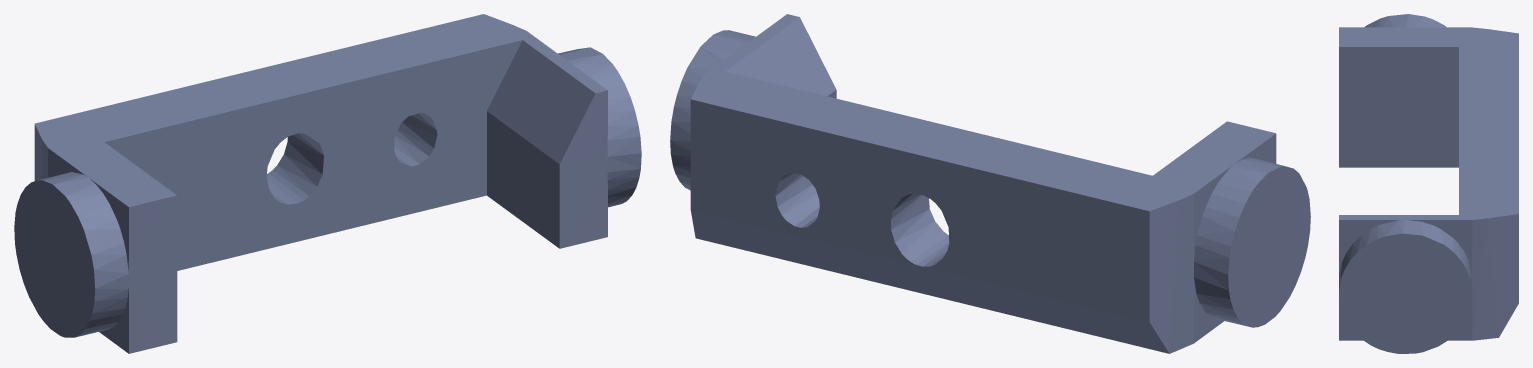
Rendered from i02_head_right_eye_horizontal_visual.obj.light.glb.
3 renders of one model, left to right at view 1: azimuth 30°, elevation 25°; view 2: azimuth 150°, elevation 25°; view 3: azimuth 270°, elevation 25°, orthographic. The views are drawn at different scales.
Size of the model in its own units: 0.1838 by 0.0472 by 0.0637.
